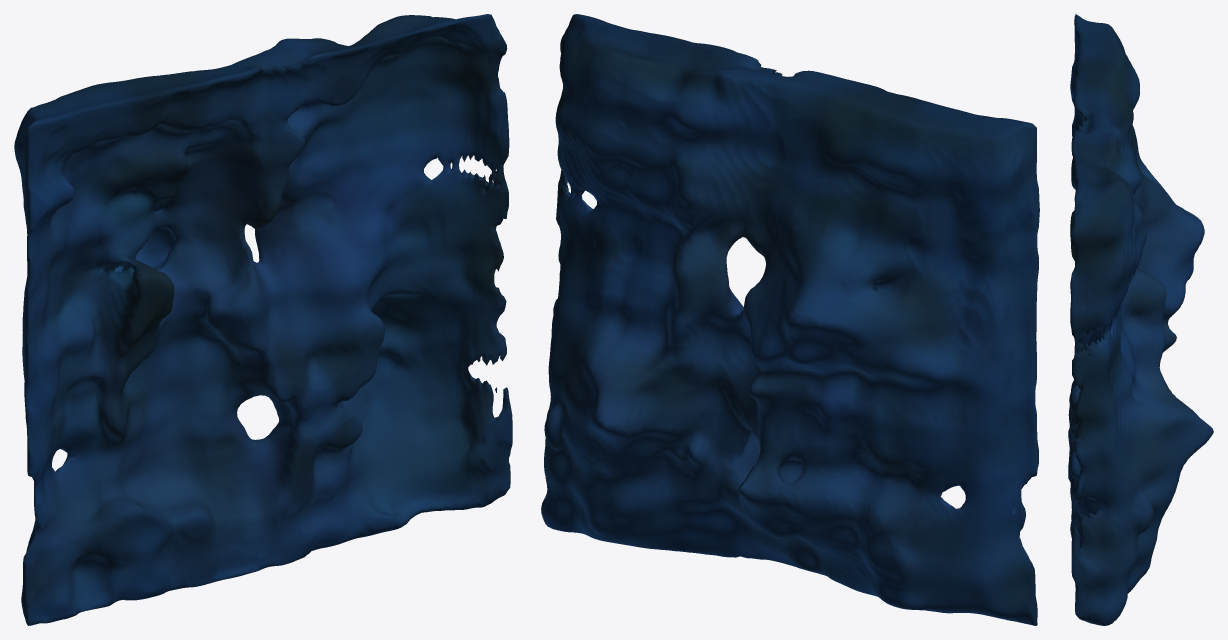
The model's file is Big_Mountain.FBX.
The picture shows the model from 3 angles, left to right: view 1: azimuth 30°, elevation 25°; view 2: azimuth 150°, elevation 25°; view 3: azimuth 270°, elevation 25°; orthographic projection. The views are drawn at different scales.
Visible parts, largest first — view 1: plyFile; view 2: plyFile; view 3: plyFile.
Boxes of the visible parts, x1,y1,x2,y2 form: plyFile: [14, 14, 512, 625]; plyFile: [541, 14, 1039, 625]; plyFile: [1068, 14, 1213, 625].
Size of the model in its own units: 198 by 196 by 61.31.
